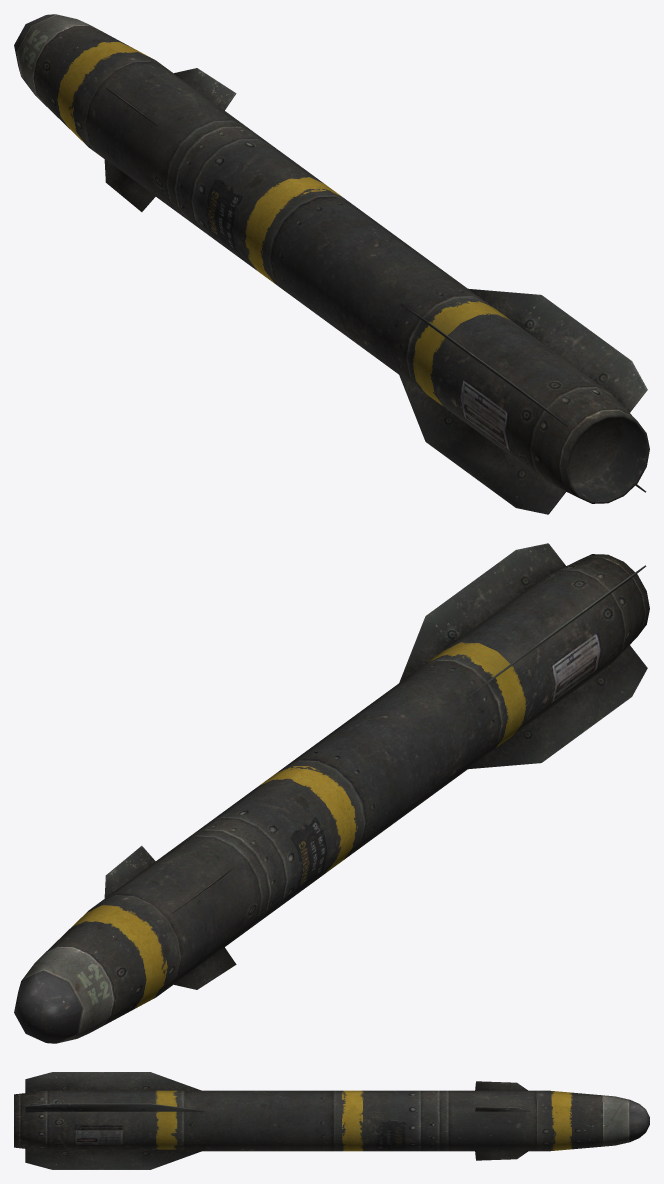
Rendered from missile-hellfire.glb.
The picture shows the model from 3 angles, top to bottom: view 1: azimuth 30°, elevation 25°; view 2: azimuth 150°, elevation 25°; view 3: azimuth 270°, elevation 25°; orthographic projection. The views are drawn at different scales.
Visible parts, largest first — view 1: AGM-114 Hellfire_15; view 2: AGM-114 Hellfire_15; view 3: AGM-114 Hellfire_15.
Part boxes in pixels (x1,y1,x2,y2): AGM-114 Hellfire_15: (14,14,649,514); AGM-114 Hellfire_15: (14,543,649,1043); AGM-114 Hellfire_15: (14,1072,649,1169).
Bounding box in the file's own units: 0.1919 × 0.1919 × 1.64.
Materials: 1 (1 with a texture image).
